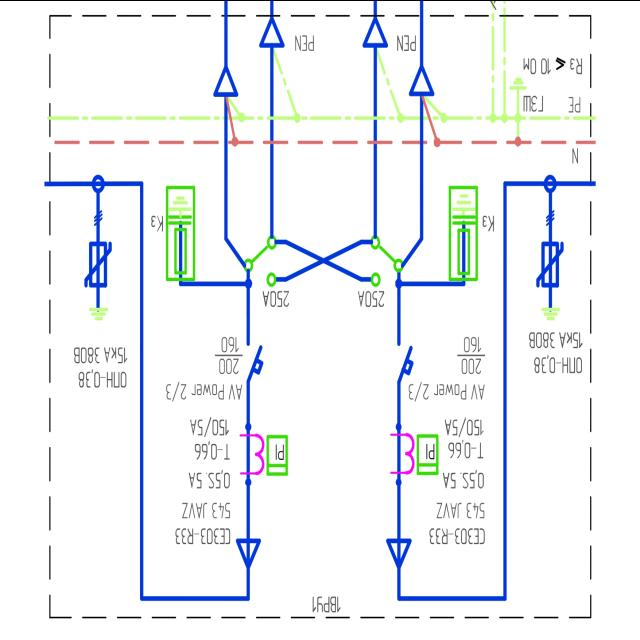-: (426, 412, 486, 554), (176, 412, 232, 550), (163, 332, 244, 404), (408, 332, 487, 404), (527, 328, 583, 376), (72, 344, 126, 389), (354, 284, 386, 314), (260, 284, 291, 310), (309, 592, 342, 614)
FV: (534, 238, 566, 288), (84, 237, 114, 289)
QF: (394, 334, 416, 386), (242, 332, 264, 384)
TT: (389, 427, 415, 477), (238, 431, 265, 477)
WH: (264, 431, 290, 478), (415, 432, 439, 478)
switch: (352, 234, 404, 282), (246, 236, 290, 286)
